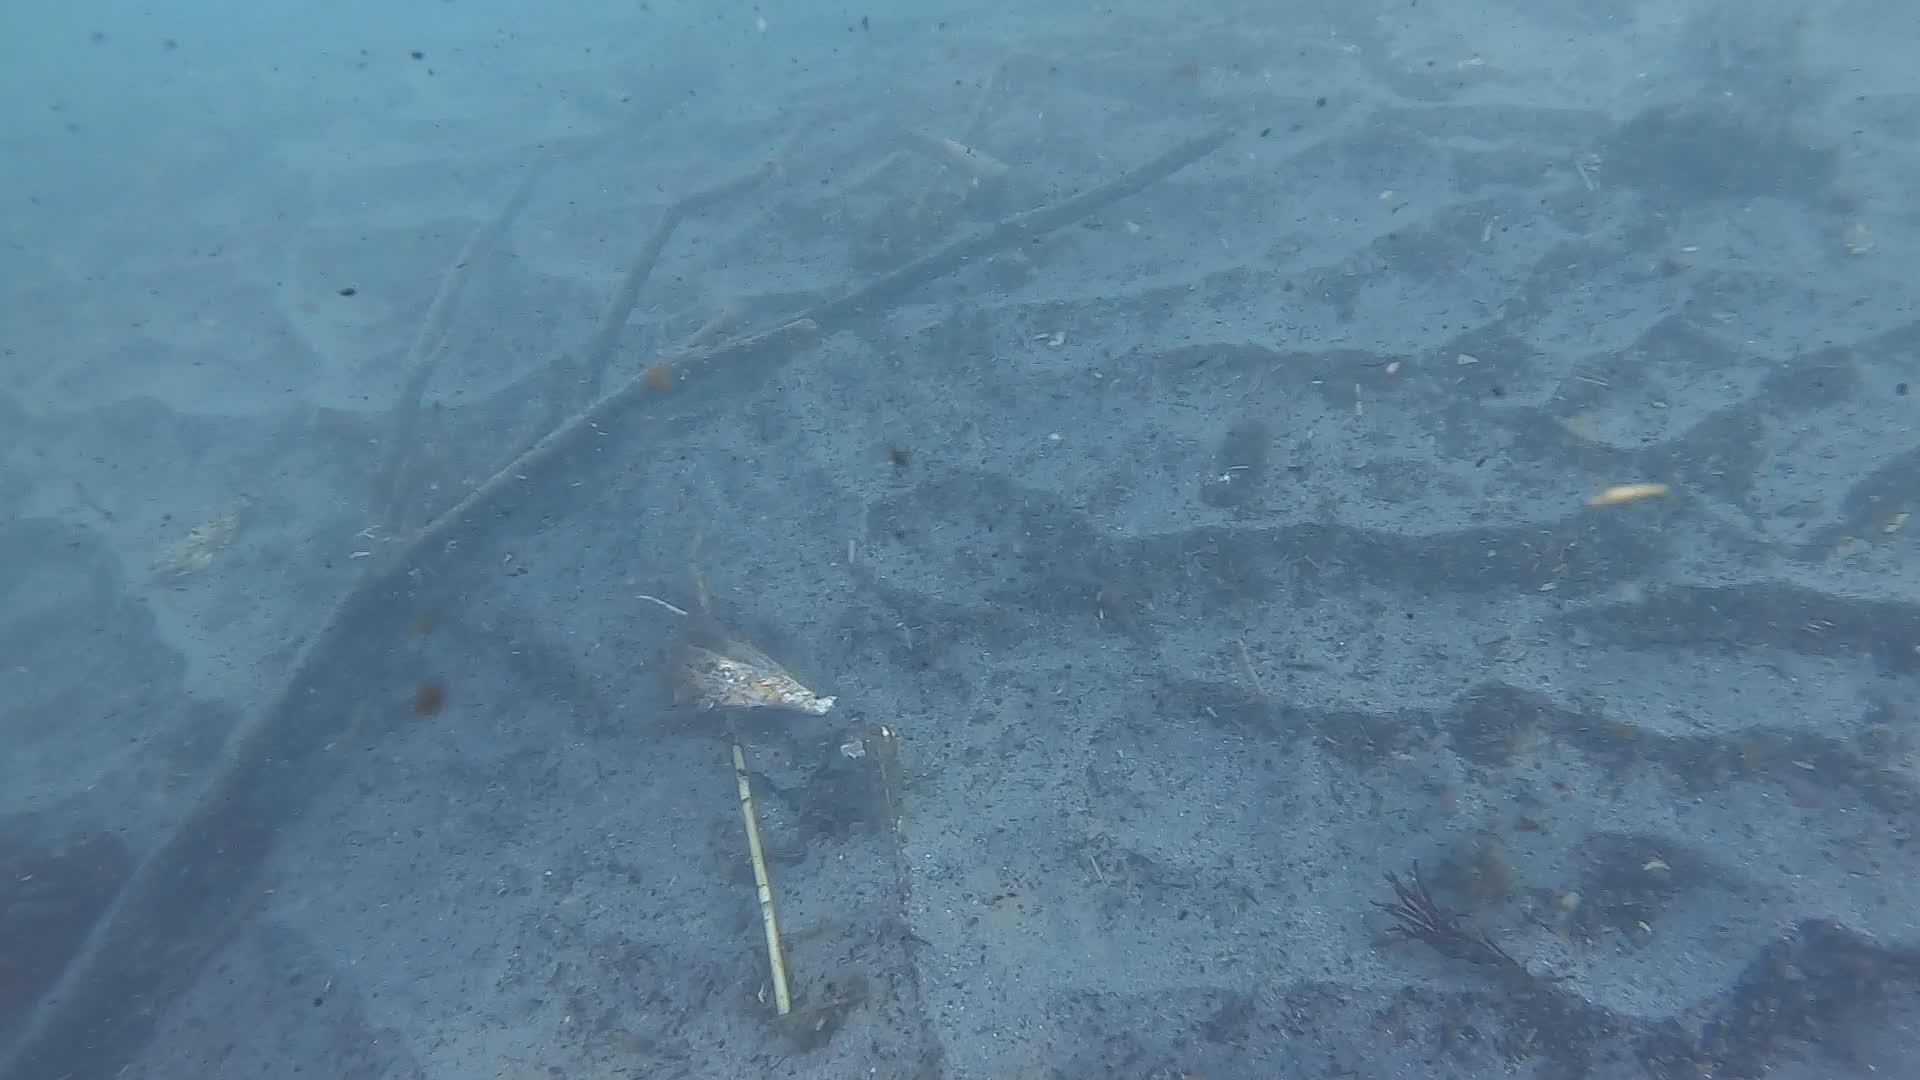wood: (0, 127, 1233, 1080)
